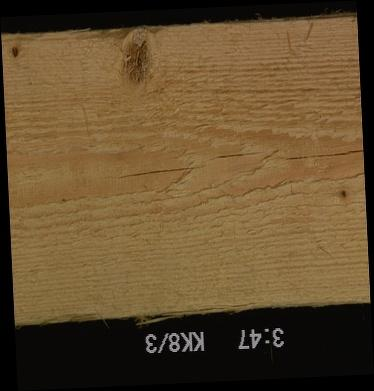dry_knot: (8, 45, 21, 60)
small_knot: (336, 186, 348, 201)
sound_knot: (119, 31, 158, 88)
split: (123, 305, 324, 319), (117, 166, 208, 175), (282, 149, 362, 159), (207, 151, 262, 162)
wave: (1, 26, 170, 38)
